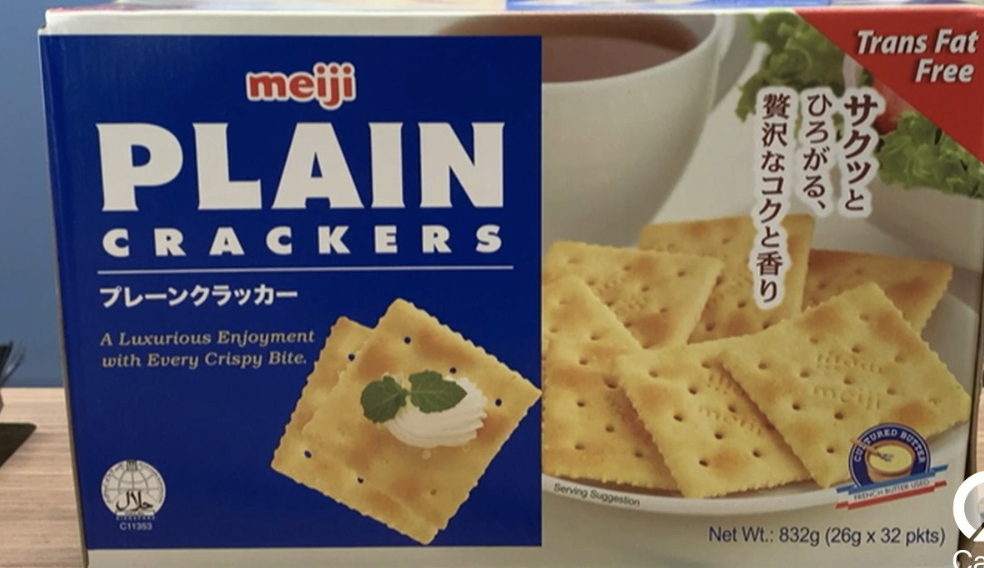crackers_550g: (86, 23, 944, 552)
